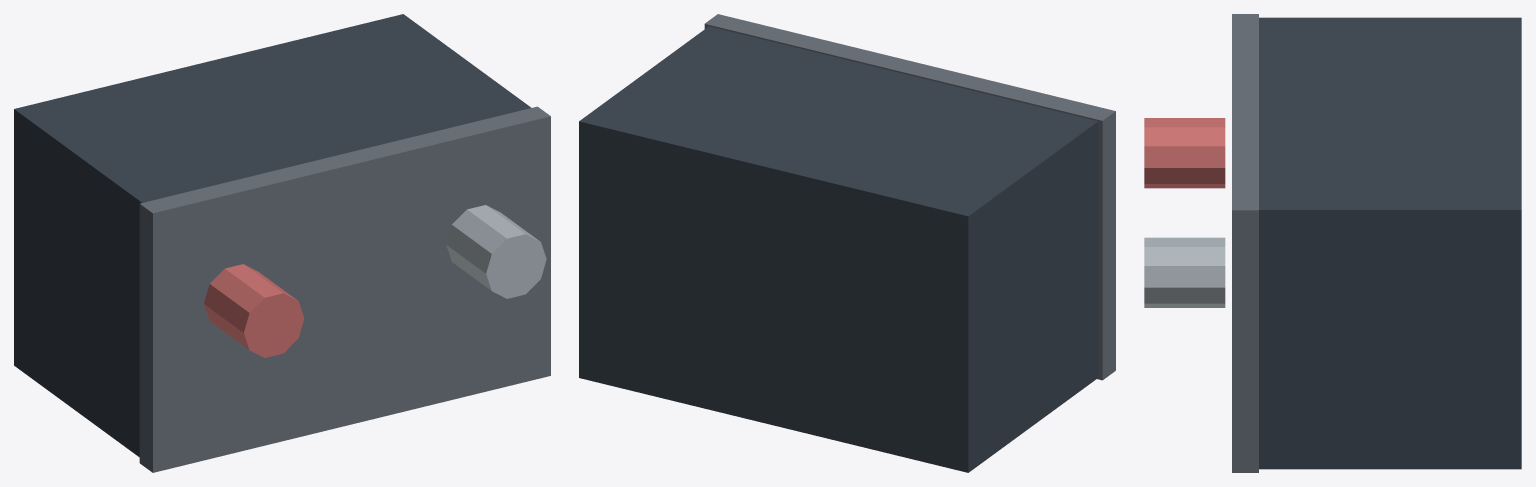
The model's file is battery.glb.
The picture shows the model from 3 angles, left to right: view 1: azimuth 30°, elevation 25°; view 2: azimuth 150°, elevation 25°; view 3: azimuth 270°, elevation 25°; orthographic projection.
Visible parts, largest first — view 1: cover, battery, terminal, terminal_1; view 2: battery, cover; view 3: battery, cover, terminal, terminal_1.
Boxes of the visible parts, x1,y1,x2,y2 form: cover: (139, 106, 550, 472); battery: (14, 14, 531, 457); terminal: (204, 264, 304, 357); terminal_1: (446, 205, 546, 298); battery: (579, 26, 1098, 472); cover: (704, 14, 1115, 380); battery: (1259, 17, 1521, 469); cover: (1232, 14, 1258, 472); terminal: (1144, 118, 1225, 188); terminal_1: (1144, 237, 1225, 307).
Bounding box in the file's own units: 1.38 × 0.86 × 1.12.
